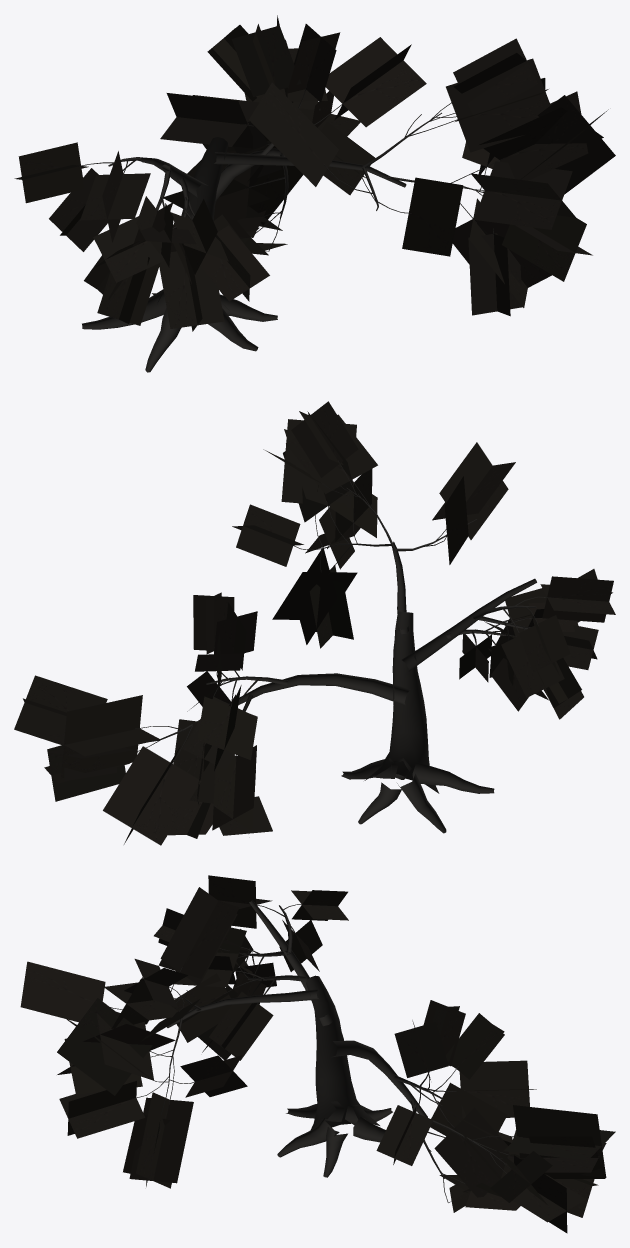
File: Arbol_Seco_Garra.glb
The picture shows the model from 3 angles, top to bottom: view 1: azimuth 30°, elevation 25°; view 2: azimuth 150°, elevation 25°; view 3: azimuth 270°, elevation 25°; orthographic projection. The views are drawn at different scales.
Visible parts, largest first — view 1: Arbol_Seco_Garra; view 2: Arbol_Seco_Garra; view 3: Arbol_Seco_Garra.
Boxes of the visible parts, x1=… form: Arbol_Seco_Garra: x1=14, y1=15, x2=615, y2=372; Arbol_Seco_Garra: x1=14, y1=401, x2=615, y2=845; Arbol_Seco_Garra: x1=20, y1=875, x2=615, y2=1233.
Size of the model in its own units: 11.24 by 6.57 by 13.17.
2 materials, 1 textured.
